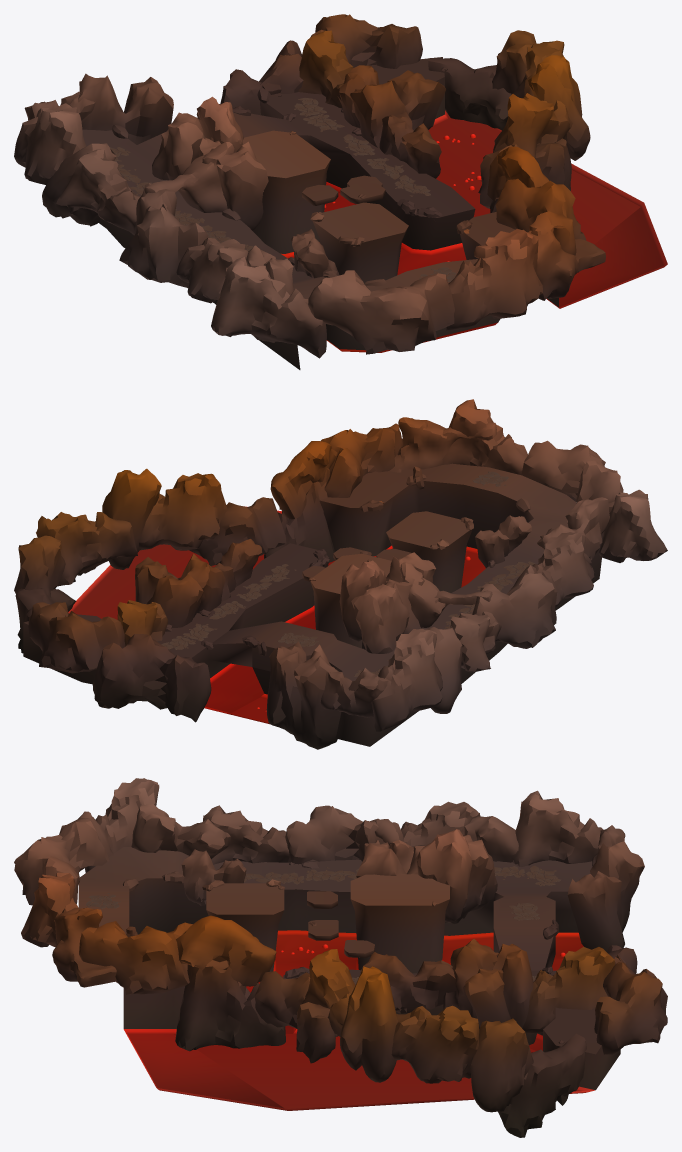
The model's file is LocationBlockout3.fbx.
3 renders of one model, top to bottom at view 1: azimuth 30°, elevation 25°; view 2: azimuth 150°, elevation 25°; view 3: azimuth 270°, elevation 25°, orthographic. The views are drawn at different scales.
Visible parts, largest first — view 1: Terrain; view 2: Terrain; view 3: Terrain.
Part boxes in pixels (x1,y1,x2,y2): Terrain: [14, 14, 667, 369]; Terrain: [14, 399, 667, 749]; Terrain: [14, 778, 667, 1137].
Bounding box in the file's own units: 11749 × 3547 × 13204.
